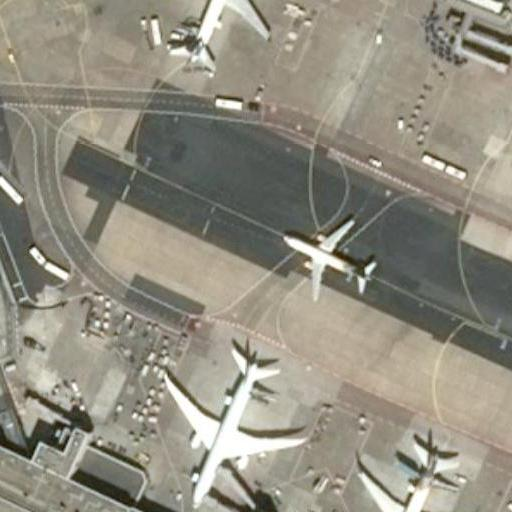Aircraft: (151, 326, 313, 512), (347, 425, 483, 512), (274, 202, 377, 306), (173, 0, 274, 66)
